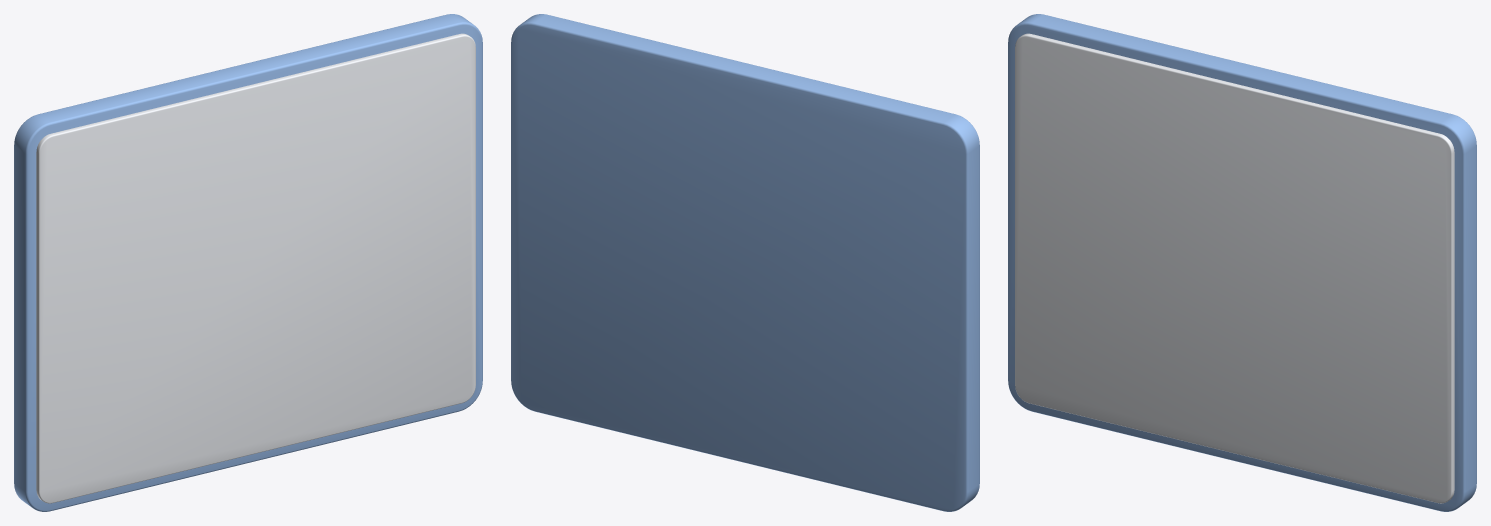
Rendered from panel-grande-claro.glb.
The picture shows the model from 3 angles, left to right: view 1: azimuth 30°, elevation 25°; view 2: azimuth 150°, elevation 25°; view 3: azimuth 330°, elevation 25°; orthographic projection.
Parts seen in each view (by area): view 1: placa, borde; view 2: borde; view 3: placa, borde.
Part boxes in pixels (x1,y1,x2,y2): placa: [36, 33, 475, 503]; borde: [14, 14, 482, 511]; borde: [511, 14, 979, 511]; placa: [1015, 33, 1454, 503]; borde: [1008, 14, 1476, 511].
Bounding box in the file's own units: 3.2 × 2.6 × 0.192.
